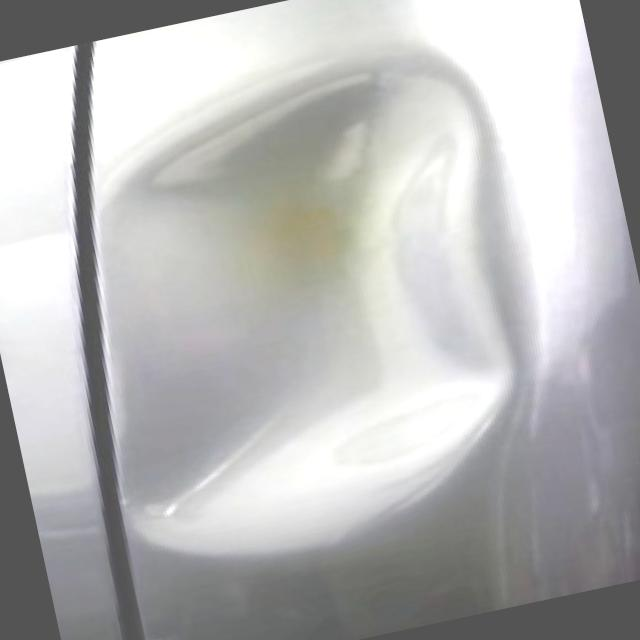dent: (42, 32, 568, 586)
